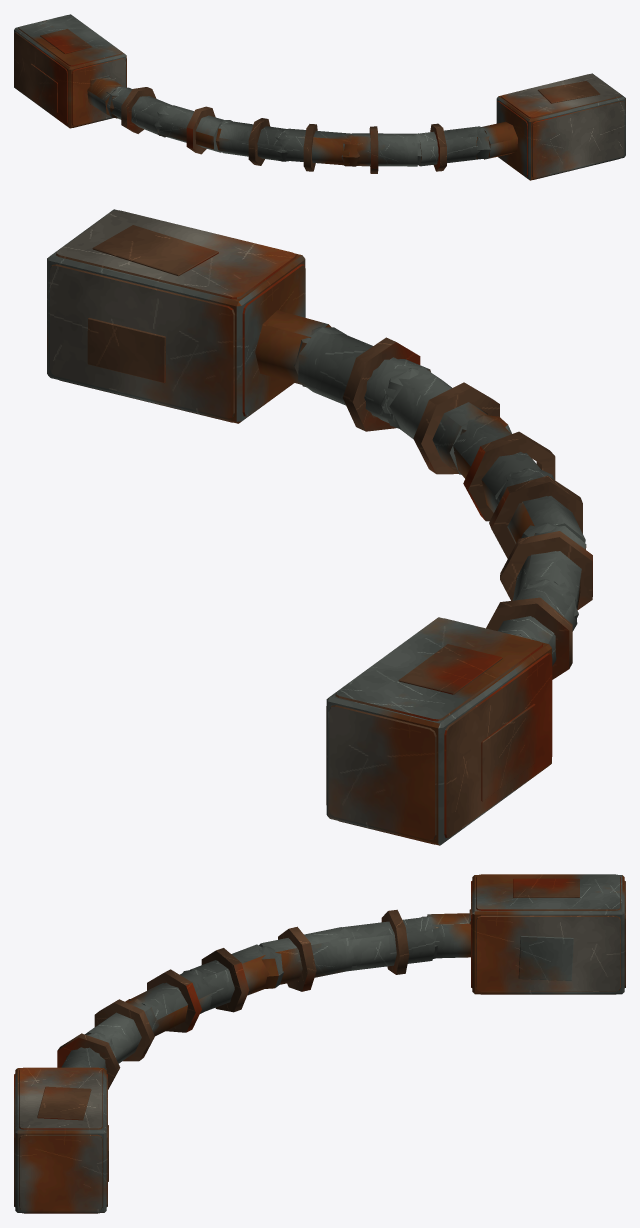
The model's file is R4C_ROD_ARC_LONG.glb.
3 views of the same model, one above another, from view 1: azimuth 30°, elevation 25°; view 2: azimuth 150°, elevation 25°; view 3: azimuth 270°, elevation 25° (orthographic). The views are drawn at different scales.
Visible parts, largest first — view 1: R4C_ROD_ARC_LONG; view 2: R4C_ROD_ARC_LONG; view 3: R4C_ROD_ARC_LONG.
Boxes of the visible parts, x1,y1,x2,y2 form: R4C_ROD_ARC_LONG: [14, 14, 625, 180]; R4C_ROD_ARC_LONG: [47, 209, 592, 845]; R4C_ROD_ARC_LONG: [14, 874, 625, 1213].
Size of the model in its own units: 1.48 by 0.229 by 1.47.
4 materials, 4 textured.
